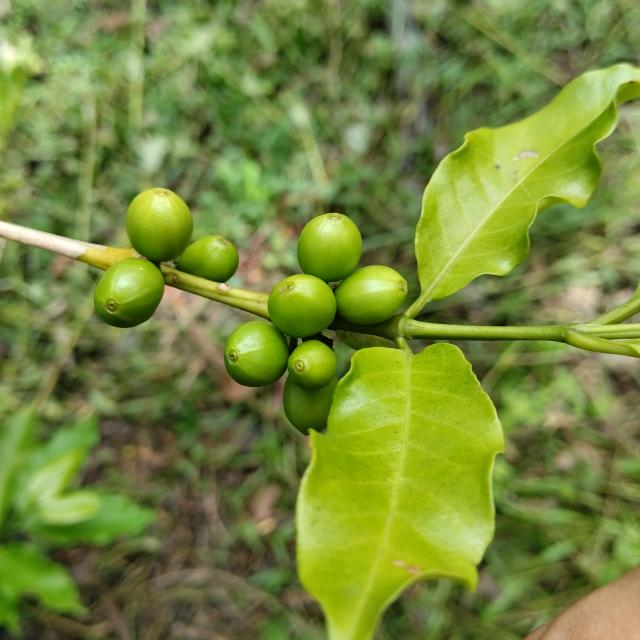green: (125, 188, 193, 262), (93, 258, 164, 328), (298, 212, 362, 283), (334, 265, 408, 325), (268, 274, 337, 338), (224, 321, 289, 387), (283, 376, 338, 435), (175, 235, 239, 282), (288, 340, 337, 391)
